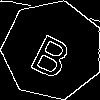B: (27, 25, 79, 81)
